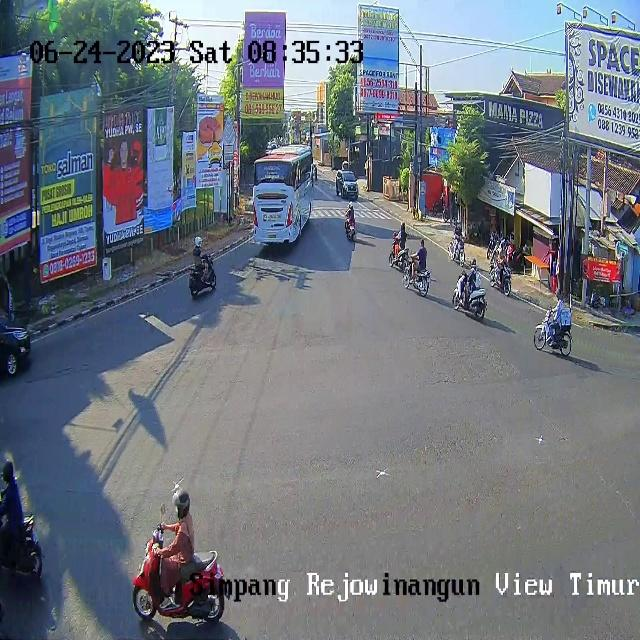bus: (133, 526, 224, 624), (0, 514, 44, 582), (534, 308, 571, 359), (453, 269, 485, 322), (188, 251, 218, 298), (402, 256, 430, 298), (388, 234, 411, 274), (490, 262, 512, 295), (448, 236, 466, 266), (344, 214, 356, 239)
car: (252, 144, 314, 243)
motorcycle: (336, 170, 358, 198)
